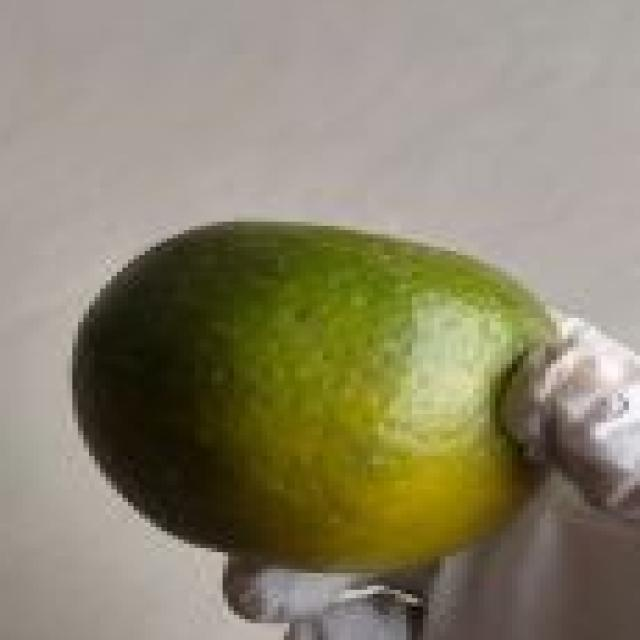Good_Orange-15-21 days: (67, 222, 579, 615)
